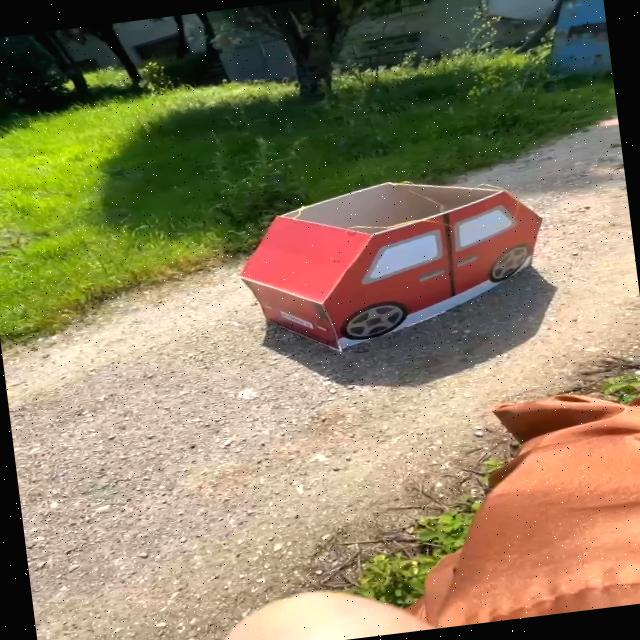red_car: (187, 150, 573, 384)
